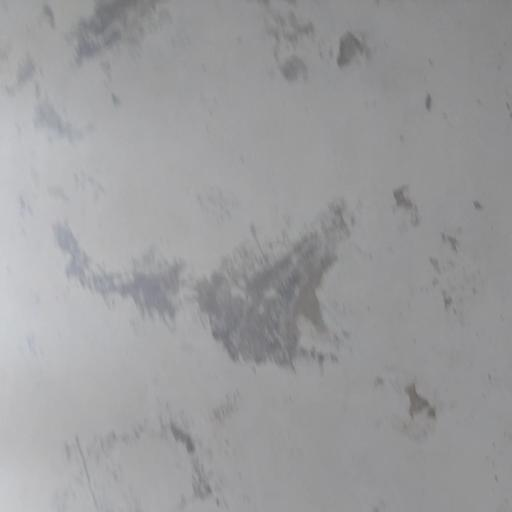peeling: (40, 173, 492, 444), (22, 1, 470, 134)
